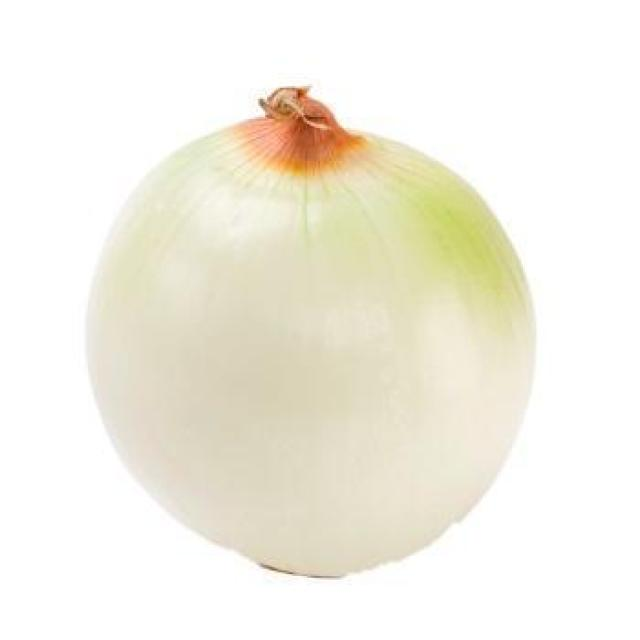Onion: (82, 86, 534, 580)
